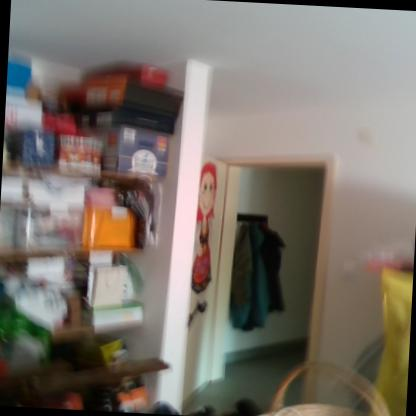open: (172, 145, 343, 416)
